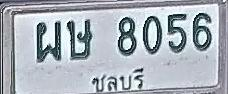0: (142, 15, 162, 54)
5: (167, 13, 187, 53)
6: (192, 12, 212, 51)
8: (118, 16, 136, 56)
A28: (36, 21, 62, 62)
A39: (66, 18, 92, 60)
CBI: (87, 68, 149, 94)
